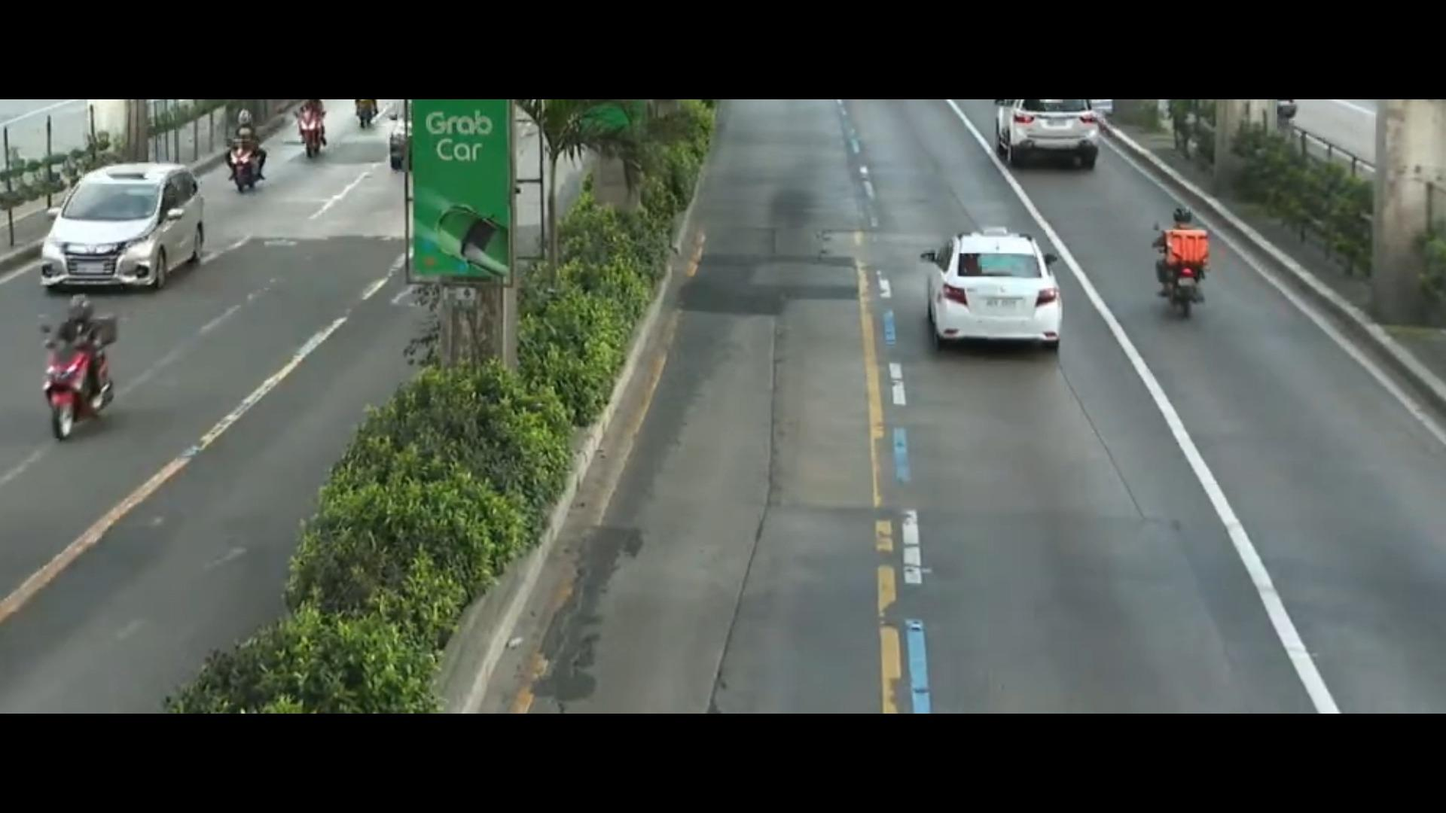Motorcycle: (1129, 195, 1243, 336), (38, 309, 138, 453), (218, 111, 285, 196), (288, 87, 337, 170), (345, 94, 386, 134)
SUV: (15, 155, 238, 309), (982, 98, 1111, 177)
Sedan: (914, 209, 1085, 365)
